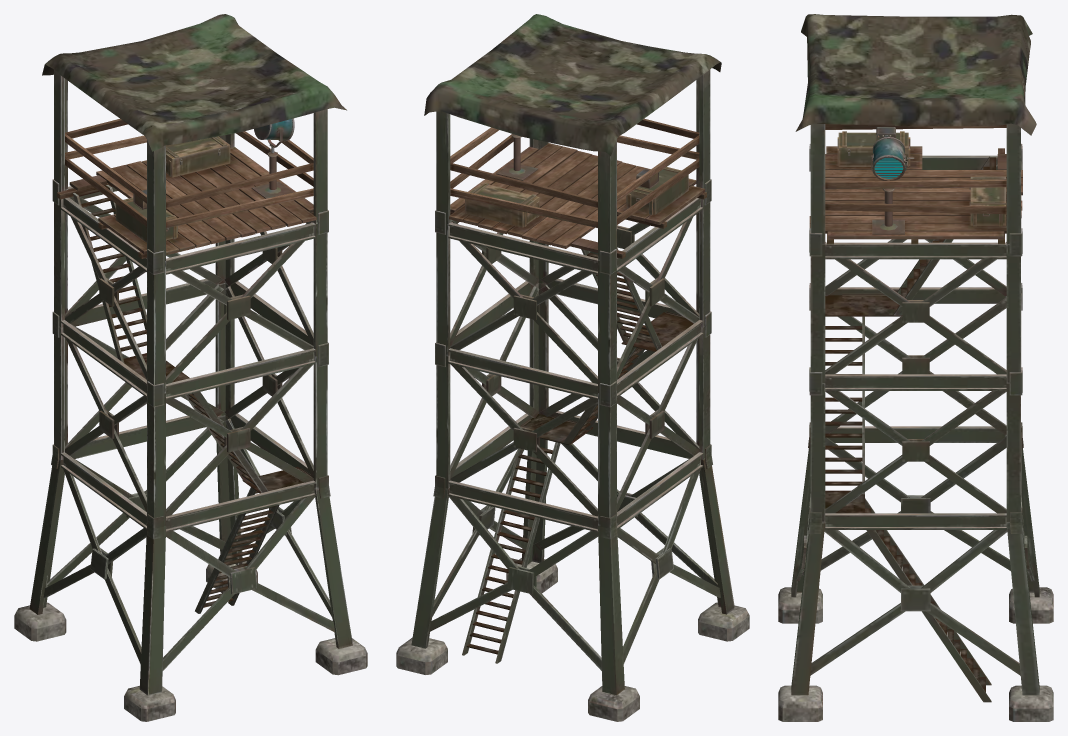
Rendered from tower.glb.
The picture shows the model from 3 angles, left to right: view 1: azimuth 30°, elevation 25°; view 2: azimuth 150°, elevation 25°; view 3: azimuth 270°, elevation 25°; orthographic projection. The views are drawn at different scales.
Parts seen in each view (by area): view 1: awning_Material #0_0; view 2: awning_Material #0_0; view 3: awning_Material #0_0.
Part boxes in pixels (x1,y1,x2,y2): awning_Material #0_0: [14, 14, 367, 721]; awning_Material #0_0: [396, 14, 749, 721]; awning_Material #0_0: [778, 14, 1053, 721].
Bounding box in the file's own units: 4.6 × 11.19 × 4.6.
1 material, 1 textured.
